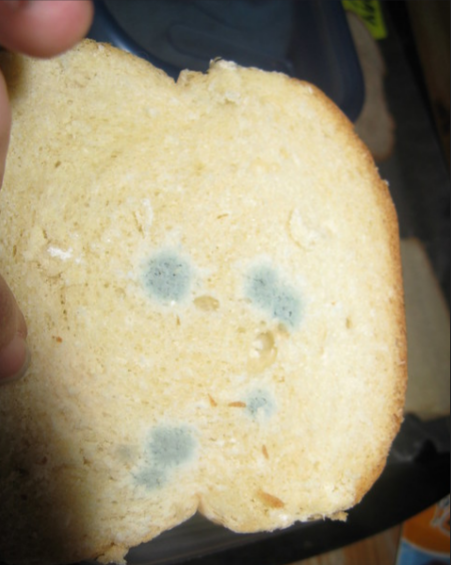mold_bread: (107, 421, 200, 495), (129, 235, 197, 309), (240, 252, 300, 333), (238, 379, 275, 422)
